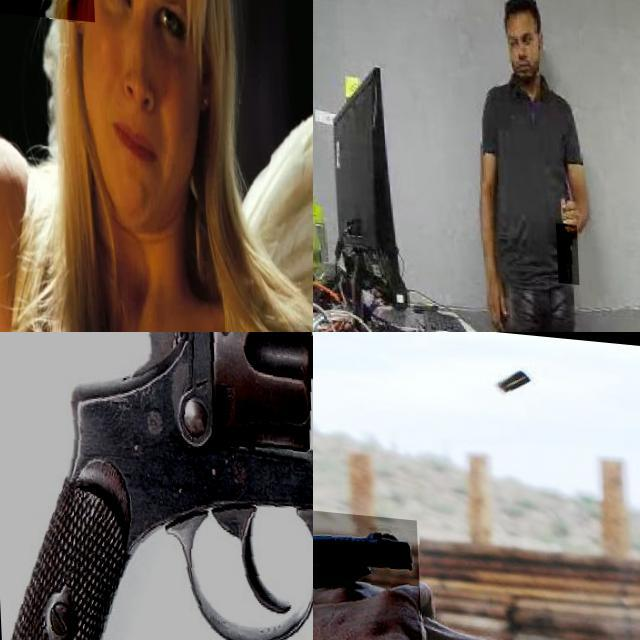-: (552, 218, 575, 280)
gun-knife-thesis - v11 Yolov5 augmented: (0, 332, 313, 640), (313, 493, 452, 640), (0, 0, 105, 133)
